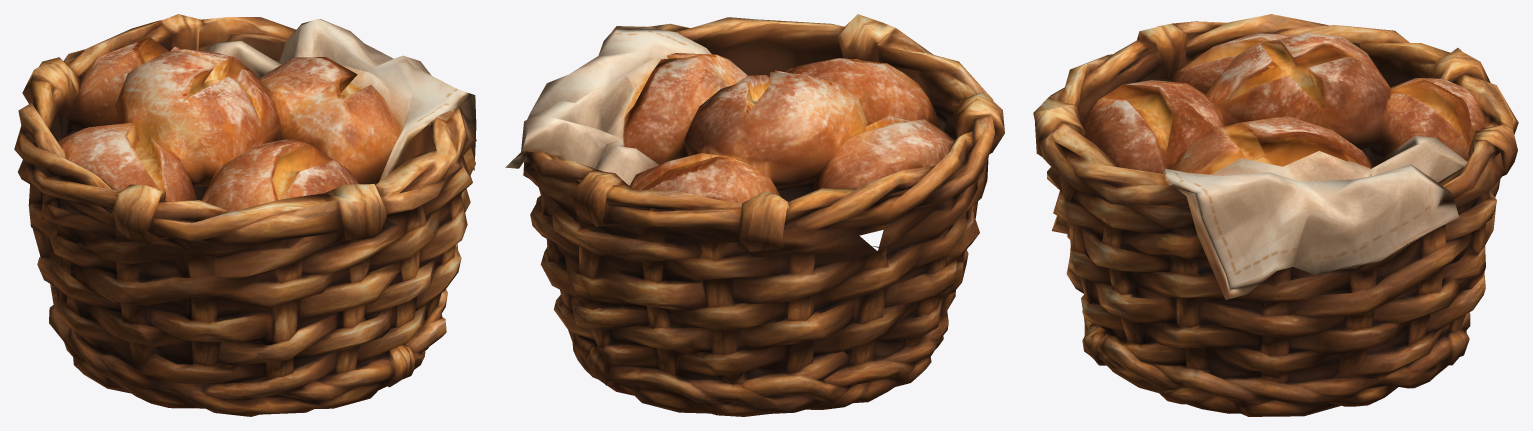
The model's file is cesta-paes.glb.
3 views of the same model, side by side, from view 1: azimuth 30°, elevation 25°; view 2: azimuth 150°, elevation 25°; view 3: azimuth 270°, elevation 25° (orthographic).
Visible parts, largest first — view 1: tripo_node_a50b737b-5344-4763-bfcc-be74b54aa64e; view 2: tripo_node_a50b737b-5344-4763-bfcc-be74b54aa64e; view 3: tripo_node_a50b737b-5344-4763-bfcc-be74b54aa64e.
Boxes of the visible parts, bbox=[...] form: tripo_node_a50b737b-5344-4763-bfcc-be74b54aa64e: bbox=[14, 14, 476, 416]; tripo_node_a50b737b-5344-4763-bfcc-be74b54aa64e: bbox=[505, 14, 1004, 416]; tripo_node_a50b737b-5344-4763-bfcc-be74b54aa64e: bbox=[1033, 14, 1518, 416].
Size of the model in its own units: 0.1902 by 0.12 by 0.1887.
Materials: 1 (1 with a texture image).
